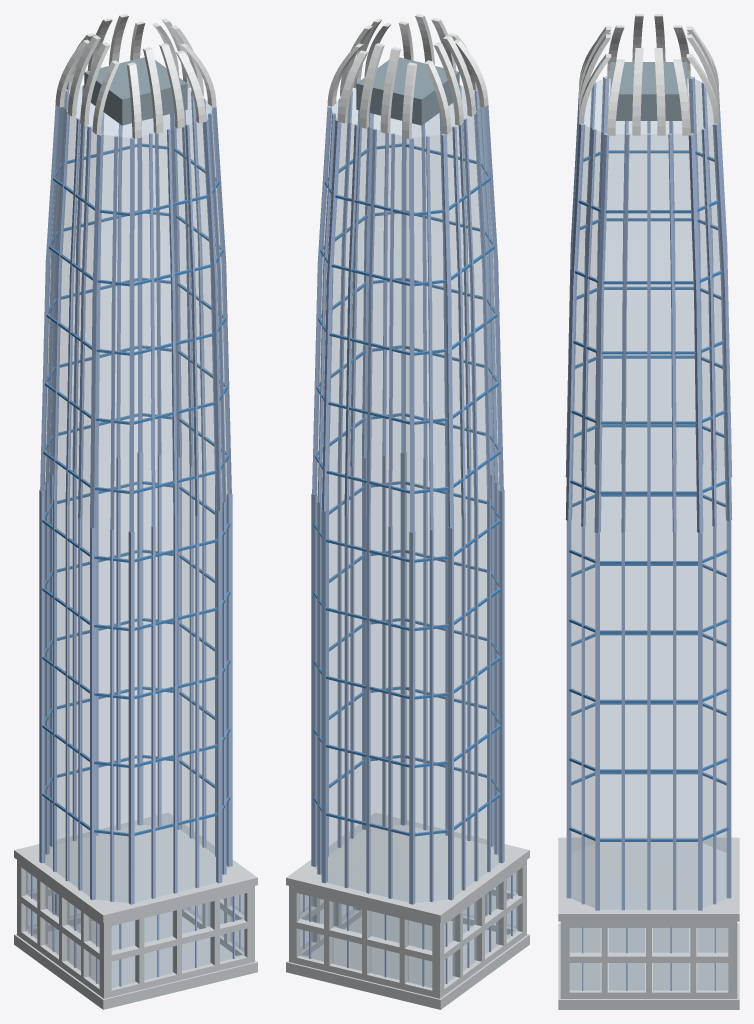
The model's file is two-ifc.glb.
The picture shows the model from 3 angles, left to right: view 1: azimuth 30°, elevation 25°; view 2: azimuth 150°, elevation 25°; view 3: azimuth 270°, elevation 25°; orthographic projection.
Visible parts, largest first — view 1: IFC chamfered tapered shaft, IFC mall terrace, IFC mall plinth, IFC recessed crown services, IFC vertical mullion.048, IFC vertical mullion.036, IFC vertical mullion.066, IFC vertical mullion.030, IFC vertical mullion.012, IFC vertical mullion.054, IFC vertical mullion.042, IFC vertical mullion.039 (+82 smaller); view 2: IFC chamfered tapered shaft, IFC mall terrace, IFC mall plinth, IFC recessed crown services, IFC vertical mullion, IFC vertical mullion.012, IFC vertical mullion.054, IFC vertical mullion.018, IFC vertical mullion.036, IFC vertical mullion.066, IFC vertical mullion.006, IFC vertical mullion.009 (+85 smaller); view 3: IFC chamfered tapered shaft, IFC mall terrace, IFC mall plinth, IFC recessed crown services, IFC vertical mullion.012, IFC vertical mullion.036, IFC vertical mullion.018, IFC vertical mullion.030, IFC vertical mullion.019, IFC vertical mullion.031, IFC vertical mullion.013, IFC vertical mullion.037 (+49 smaller).
Boxes of the visible parts, x1,y1,x2,y2 form: IFC chamfered tapered shaft: (44, 86, 228, 902); IFC mall terrace: (14, 812, 257, 922); IFC mall plinth: (14, 911, 257, 1009); IFC recessed crown services: (84, 57, 187, 125); IFC vertical mullion.048: (128, 531, 134, 904); IFC vertical mullion.036: (216, 510, 222, 883); IFC vertical mullion.066: (39, 489, 45, 863); IFC vertical mullion.030: (226, 493, 232, 866); IFC vertical mullion.012: (137, 452, 143, 825); IFC vertical mullion.054: (90, 527, 95, 900); IFC vertical mullion.042: (173, 521, 177, 893); IFC vertical mullion.039: (195, 516, 199, 888); IFC chamfered tapered shaft: (315, 86, 499, 902); IFC mall terrace: (286, 812, 529, 922); IFC mall plinth: (286, 911, 529, 1009); IFC recessed crown services: (356, 57, 459, 125); IFC vertical mullion: (409, 531, 415, 904); IFC vertical mullion.012: (321, 510, 327, 883); IFC vertical mullion.054: (498, 489, 504, 863); IFC vertical mullion.018: (311, 493, 317, 866); IFC vertical mullion.036: (400, 452, 406, 825); IFC vertical mullion.066: (448, 527, 453, 900); IFC vertical mullion.006: (366, 521, 370, 893); IFC vertical mullion.009: (344, 516, 348, 888); IFC chamfered tapered shaft: (571, 78, 726, 909); IFC mall terrace: (558, 837, 739, 921); IFC mall plinth: (558, 923, 739, 1009); IFC recessed crown services: (610, 62, 687, 120); IFC vertical mullion.012: (726, 520, 731, 898); IFC vertical mullion.036: (566, 520, 571, 898); IFC vertical mullion.018: (698, 533, 702, 910); IFC vertical mullion.030: (595, 533, 599, 910); IFC vertical mullion.019: (694, 297, 703, 533); IFC vertical mullion.031: (594, 297, 603, 533); IFC vertical mullion.013: (721, 285, 732, 521); IFC vertical mullion.037: (565, 285, 576, 521).
Bounding box in the file's own units: 2.6 × 14.89 × 2.6.
